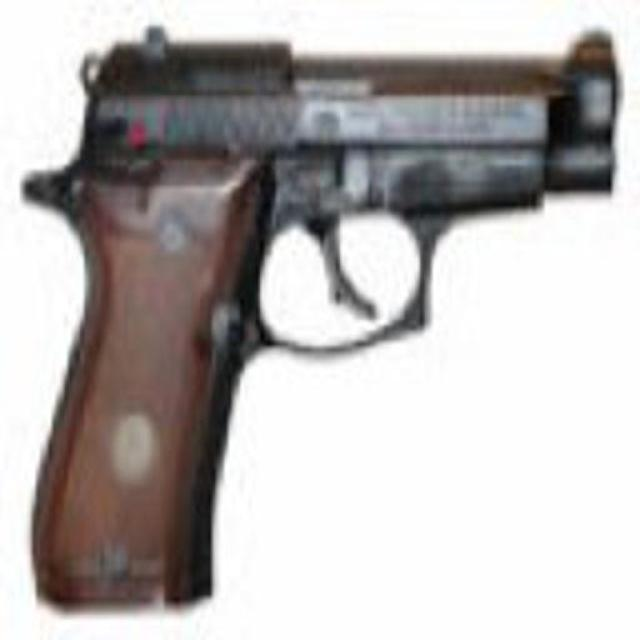pistol: (11, 10, 615, 617)
